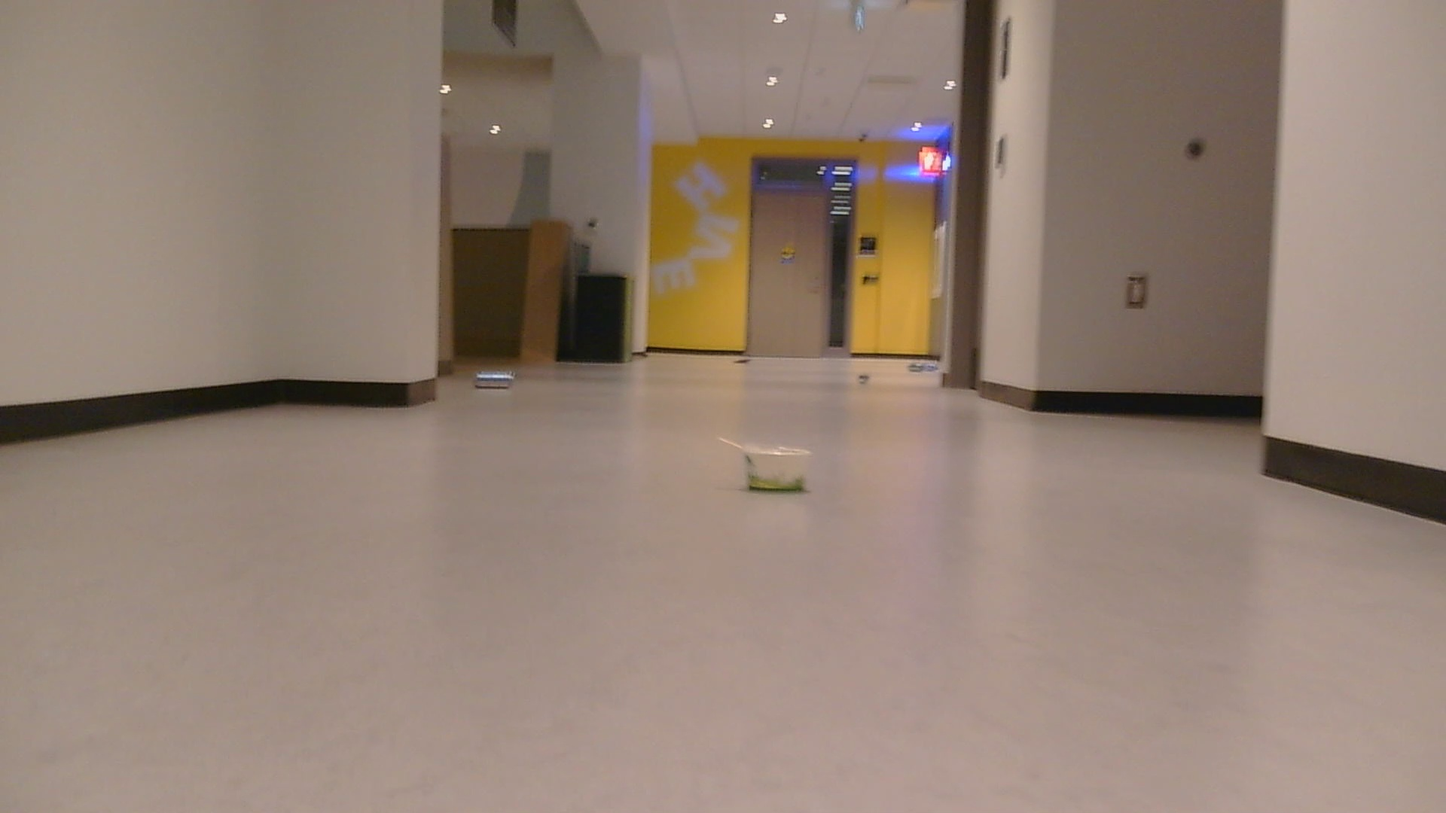carton: (737, 440, 826, 502), (468, 372, 535, 394), (907, 358, 936, 377), (728, 348, 756, 365), (854, 372, 875, 385)
